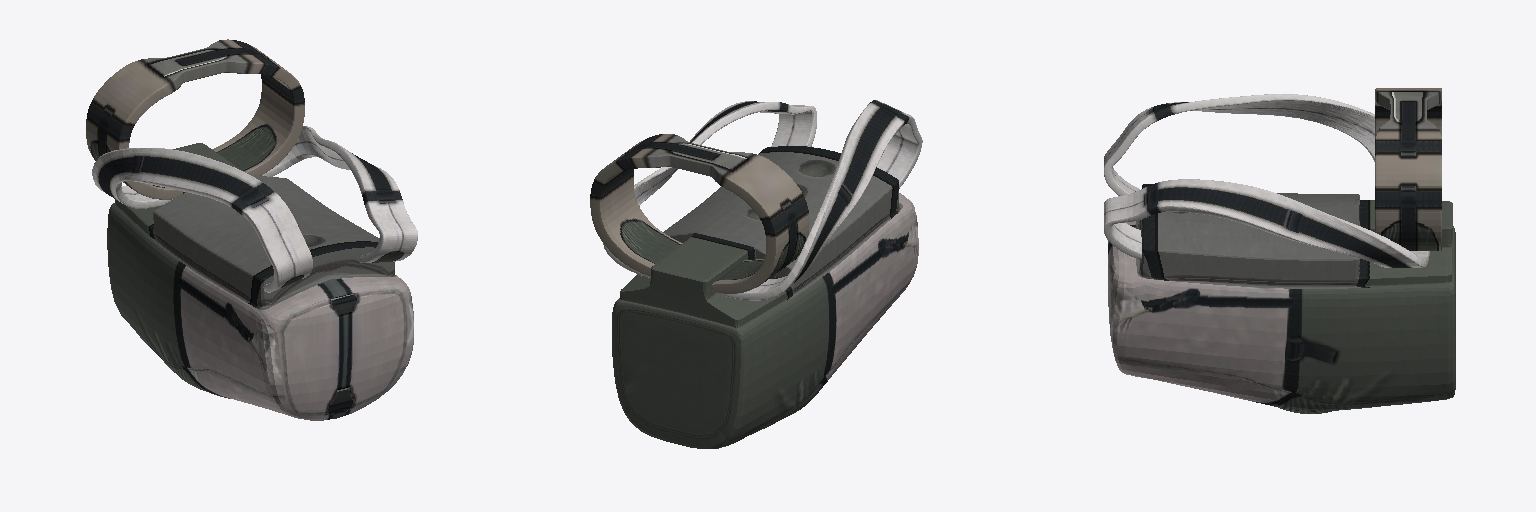
3 views of the same model, side by side, from view 1: azimuth 30°, elevation 25°; view 2: azimuth 150°, elevation 25°; view 3: azimuth 270°, elevation 25° (orthographic).
Parts seen in each view (by area): view 1: 10481_Backpack; view 2: 10481_Backpack; view 3: 10481_Backpack.
Boxes of the visible parts, x1=… form: 10481_Backpack: x1=86, y1=39, x2=417, y2=420; 10481_Backpack: x1=590, y1=100, x2=922, y2=448; 10481_Backpack: x1=1104, y1=88, x2=1455, y2=413.
Bounding box in the file's own units: 55.32 × 75.31 × 81.02.
Materials: 1 (1 with a texture image).